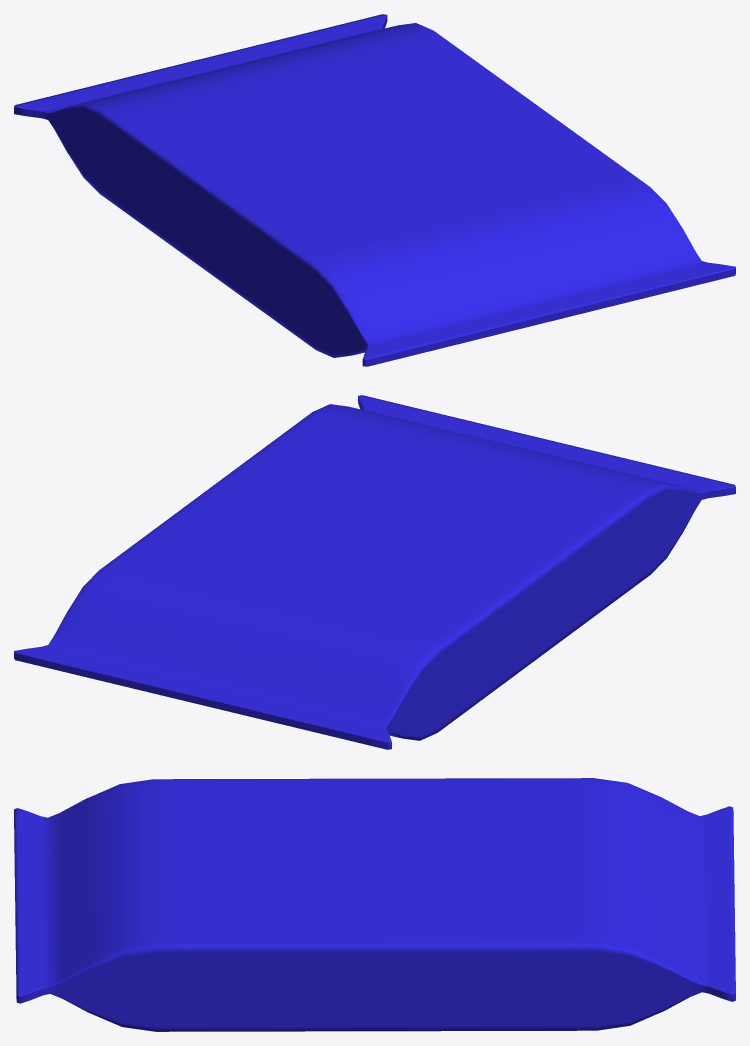
Rendered from seed-pack-blue.glb.
3 views of the same model, one above another, from view 1: azimuth 30°, elevation 25°; view 2: azimuth 150°, elevation 25°; view 3: azimuth 270°, elevation 25° (orthographic). The views are drawn at different scales.
Visible parts, largest first — view 1: Box001.004; view 2: Box001.004; view 3: Box001.004.
Part boxes in pixels (x1,y1,x2,y2): Box001.004: (14, 14, 735, 366); Box001.004: (14, 395, 735, 749); Box001.004: (14, 778, 735, 1031).
Size of the model in its own units: 0.1425 by 0.0302 by 0.2286.
